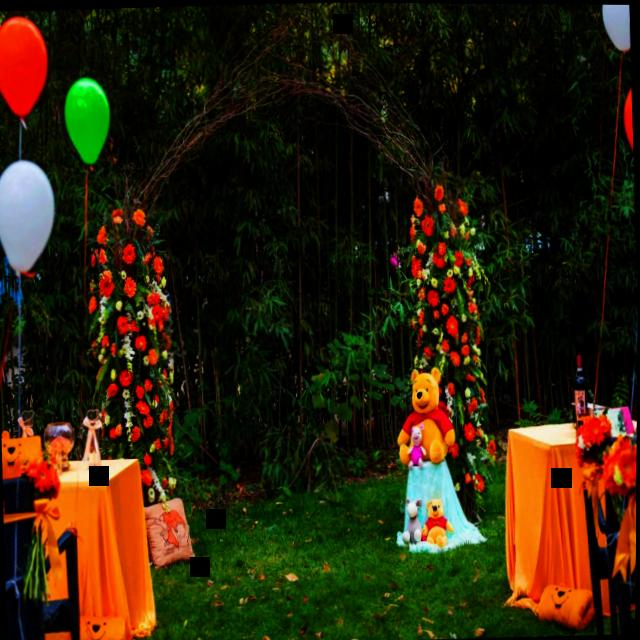Fall-Detected: (384, 357, 483, 558)
